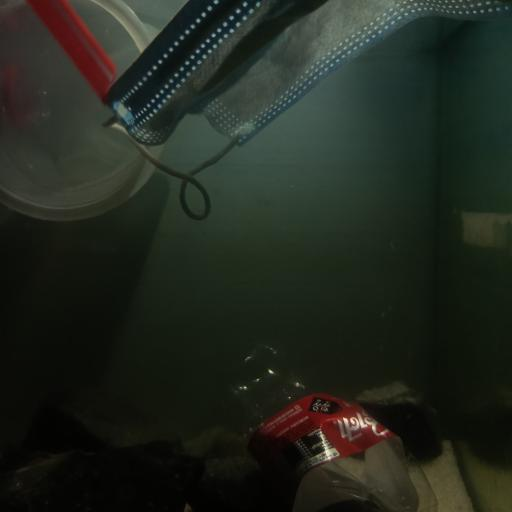mask: (109, 0, 512, 222)
plastic_bottle: (213, 341, 439, 512)
plastic_cup: (0, 0, 168, 225)
plastic_straw: (26, 1, 118, 104)
